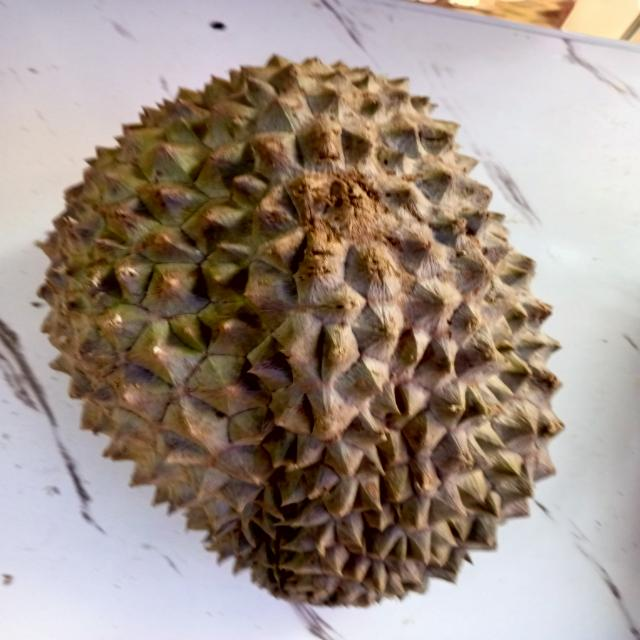mature: (40, 56, 563, 606)
